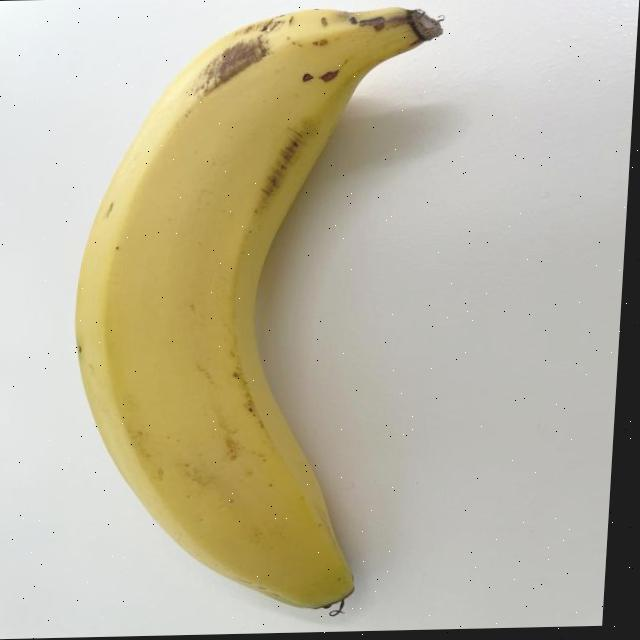banana: (51, 3, 448, 621)
